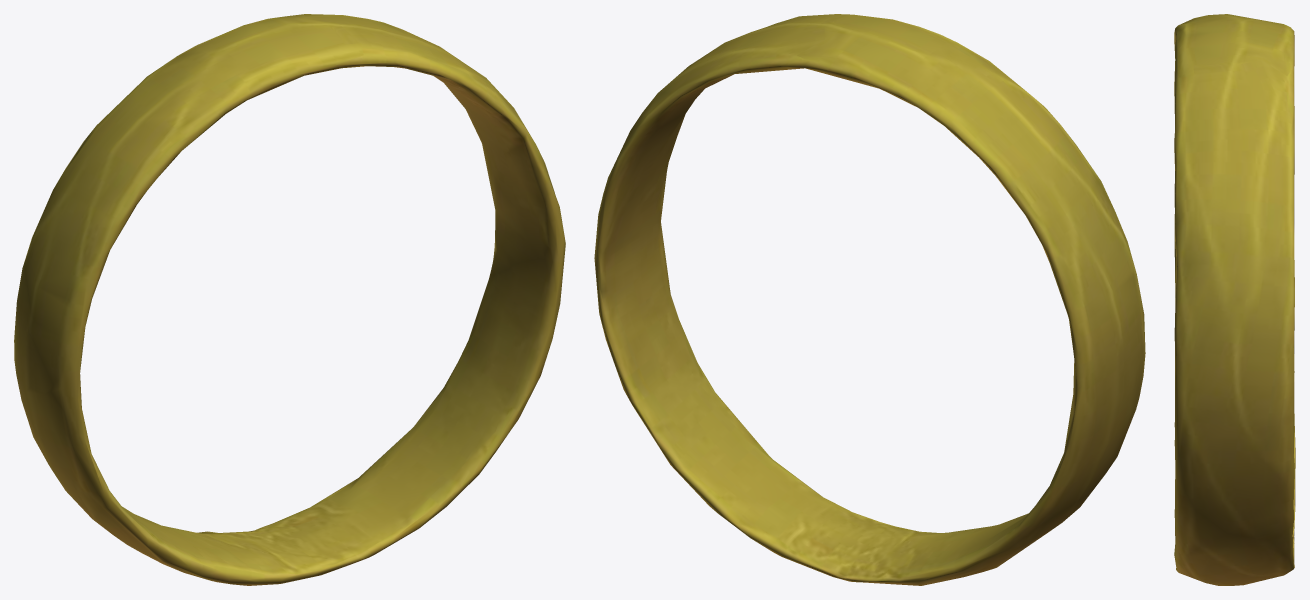
The model's file is hoard_ring_a.glb.
3 views of the same model, side by side, from view 1: azimuth 30°, elevation 25°; view 2: azimuth 150°, elevation 25°; view 3: azimuth 270°, elevation 25° (orthographic). The views are drawn at different scales.
Visible parts, largest first — view 1: ring-a; view 2: ring-a; view 3: ring-a.
Part boxes in pixels (x1=…): ring-a: x1=14, y1=14, x2=565, y2=585; ring-a: x1=594, y1=14, x2=1145, y2=585; ring-a: x1=1174, y1=14, x2=1295, y2=585.
Bounding box in the file's own units: 0.9985 × 1 × 0.2131.
Materials: 1 (1 with a texture image).
